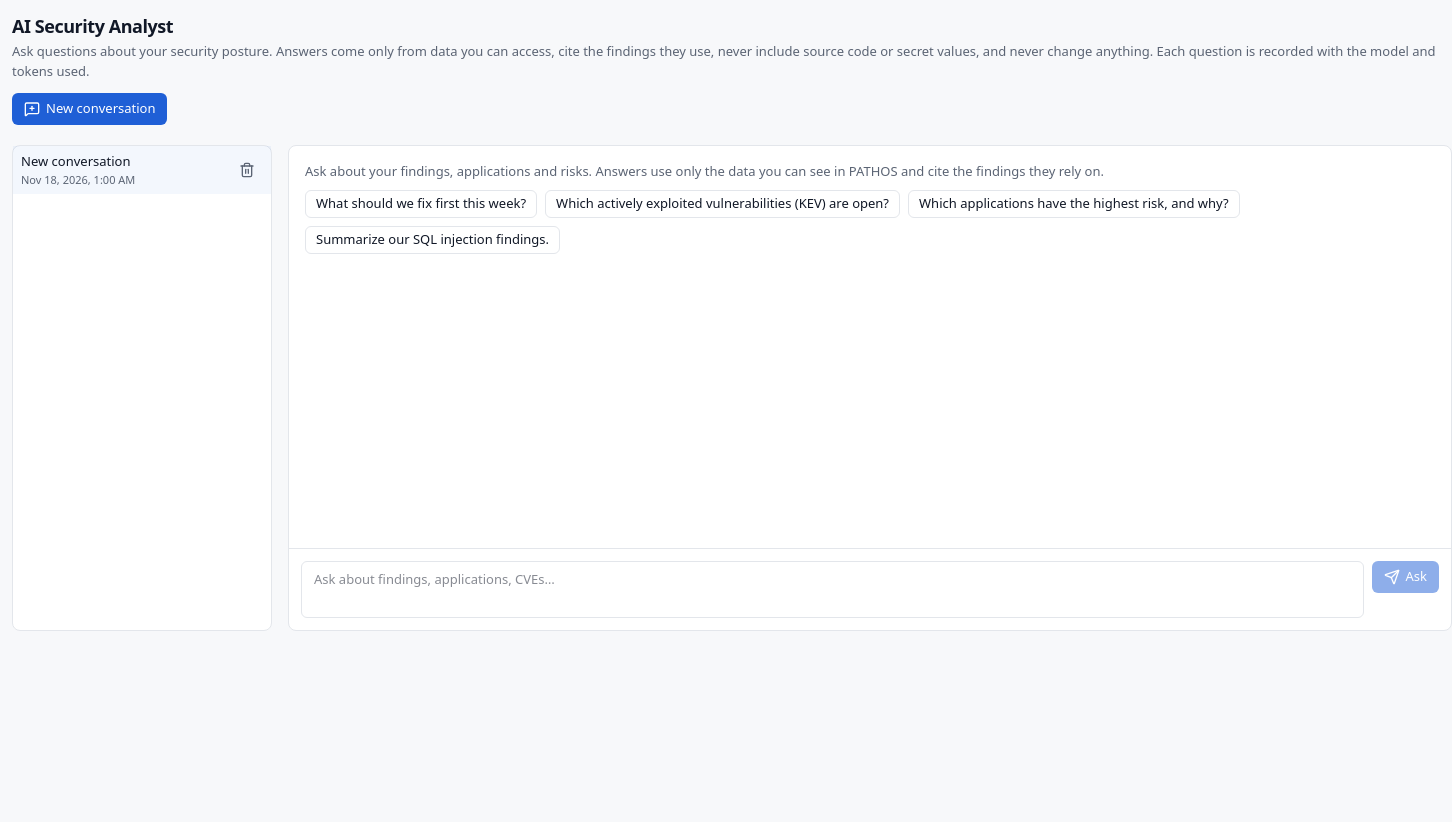
AI Security Analyst › asks, renders the answer with cited findings and offers follow-ups
The width and height of the screenshot is (1452, 822).
Later steps or results of the test are not shown.
Click the button "What should we fix first this week?".
click(421, 204)  # box [305,190,537,218]
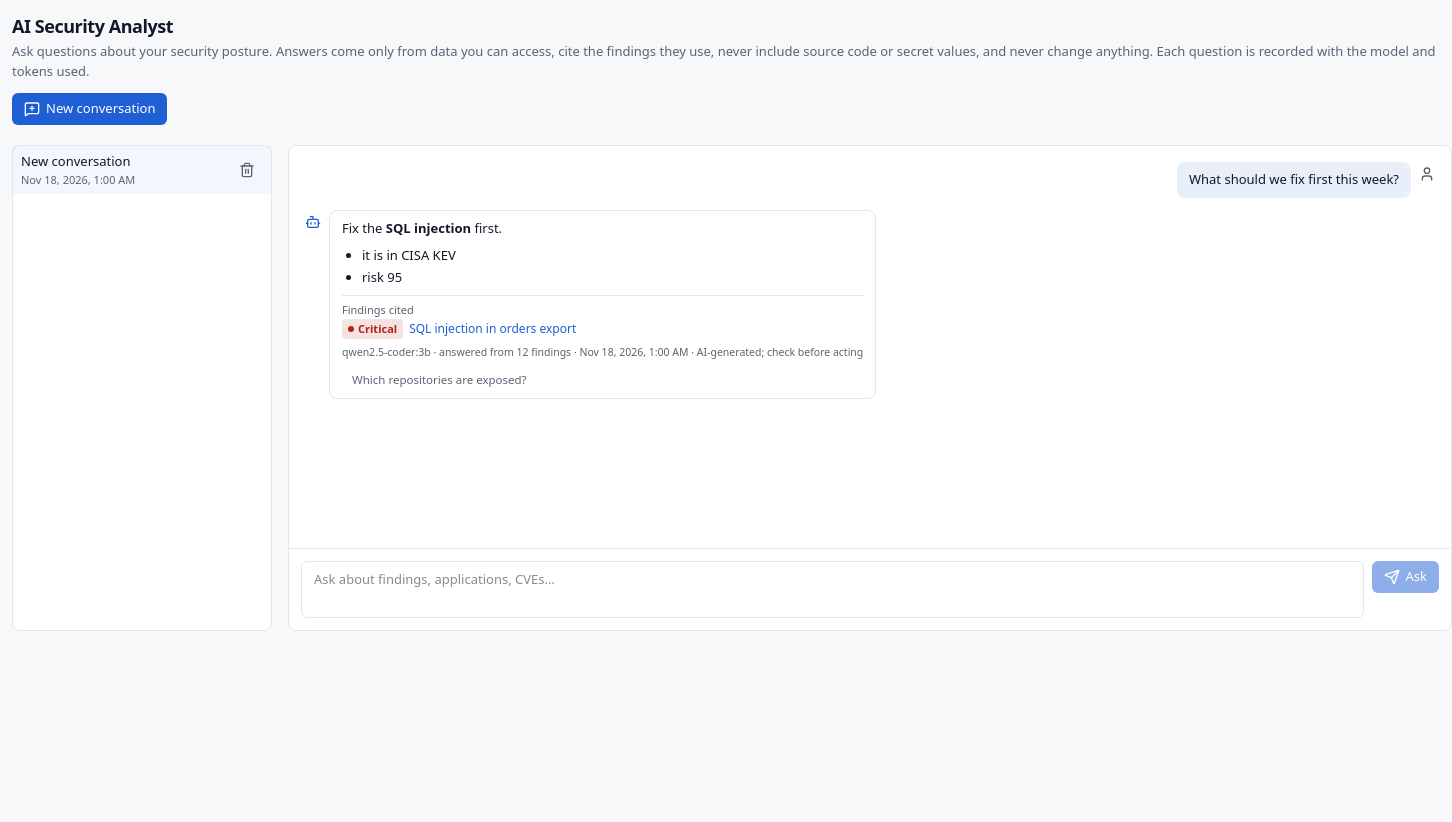
Check: the text "SQL injection" is shown, box [386,218,471,236]
Check: the link "SQL injection in orders export" is shown, box [409,320,576,338]
Check: the text "answered from 12 findings" is shown, box [342,345,863,361]
